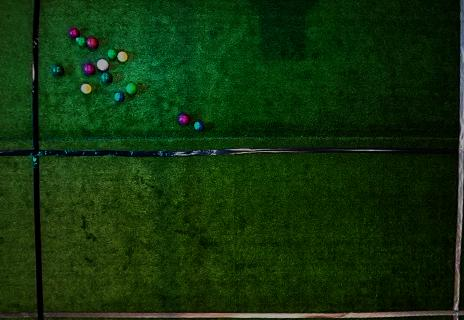blue: (193, 120, 204, 132), (113, 92, 125, 102)
green: (125, 83, 138, 95), (100, 72, 112, 84), (52, 65, 64, 77), (108, 48, 117, 60), (78, 36, 86, 47)
red: (87, 36, 99, 49), (96, 59, 109, 71), (178, 113, 190, 125), (83, 64, 96, 75), (69, 28, 80, 38)
vline: (1, 1, 45, 319), (450, 1, 463, 319)
white: (76, 38, 79, 41)
yellow: (81, 83, 92, 94), (117, 51, 128, 62)
